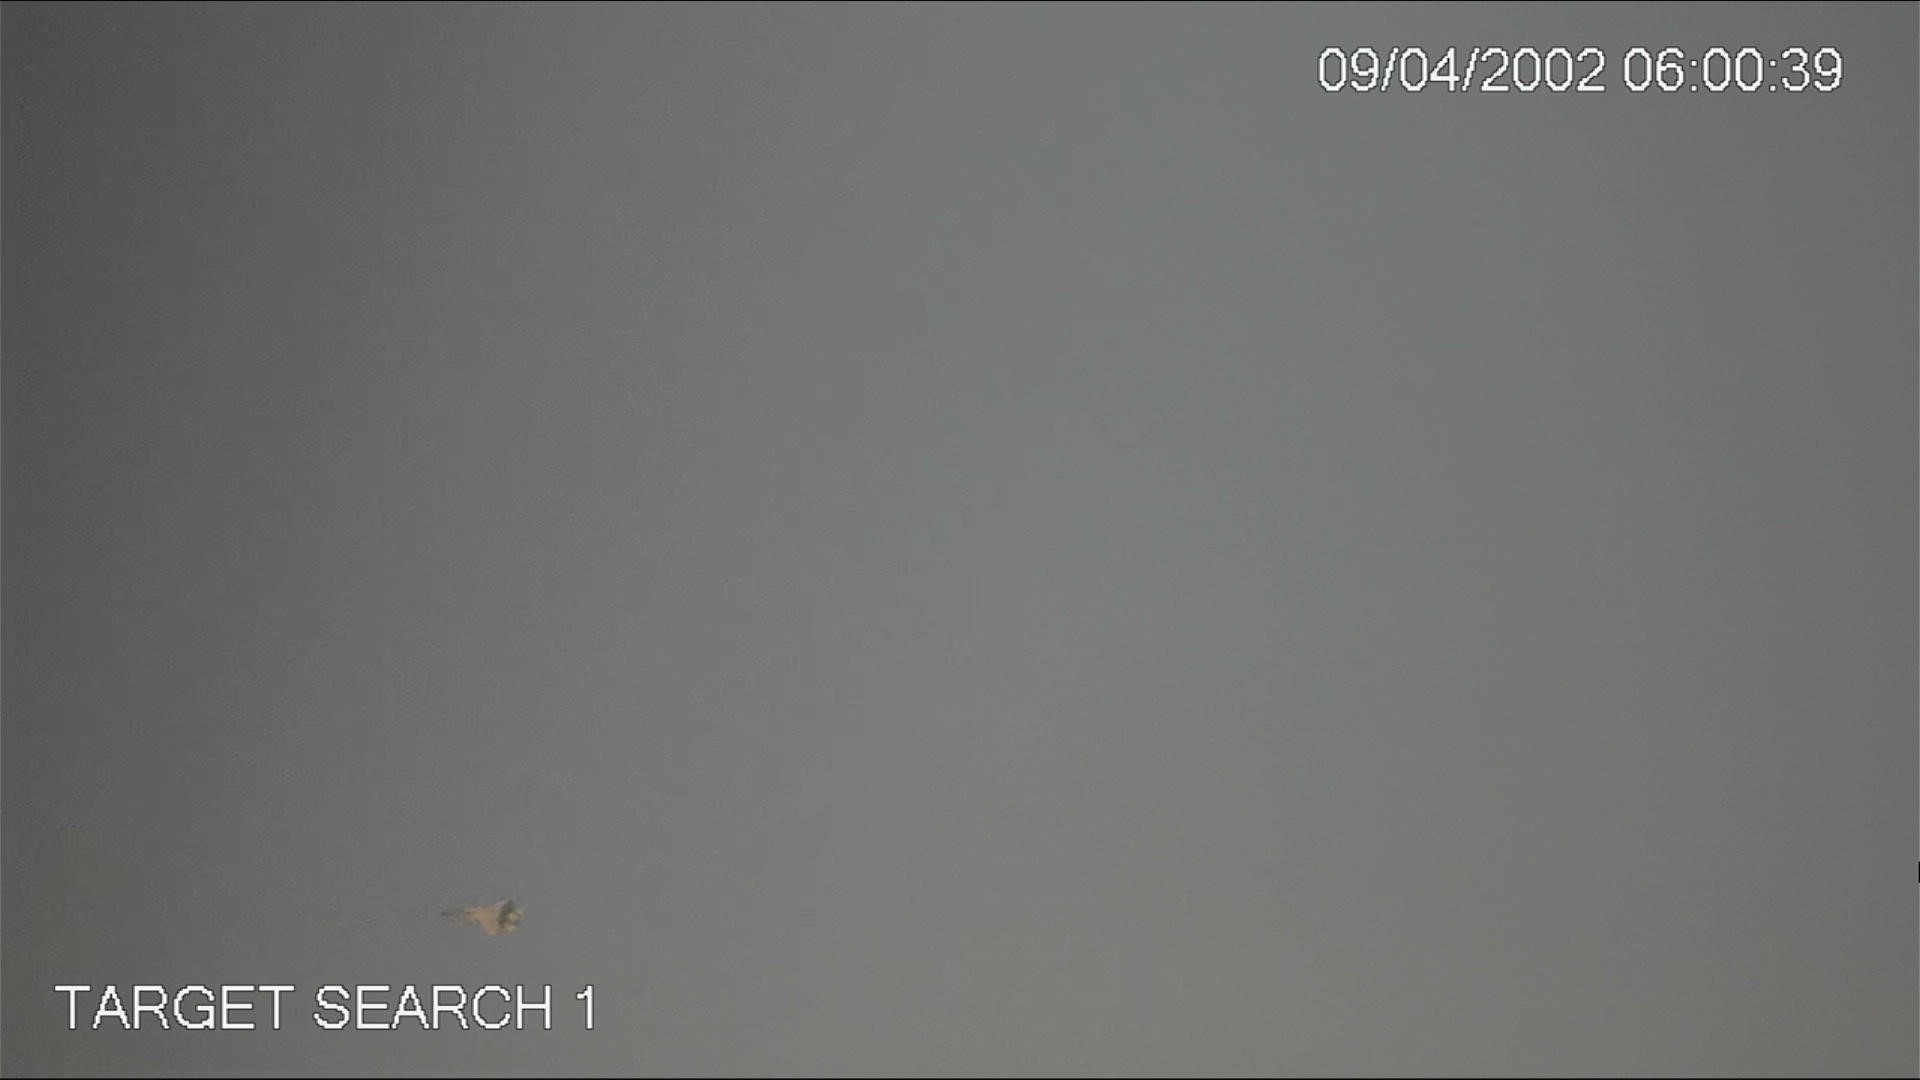SU_30: (444, 895, 524, 936)
